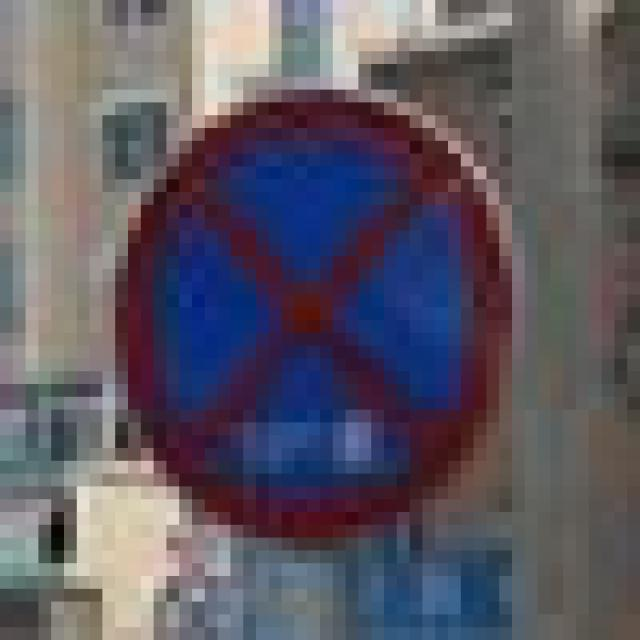no_parking: (102, 77, 512, 525)
